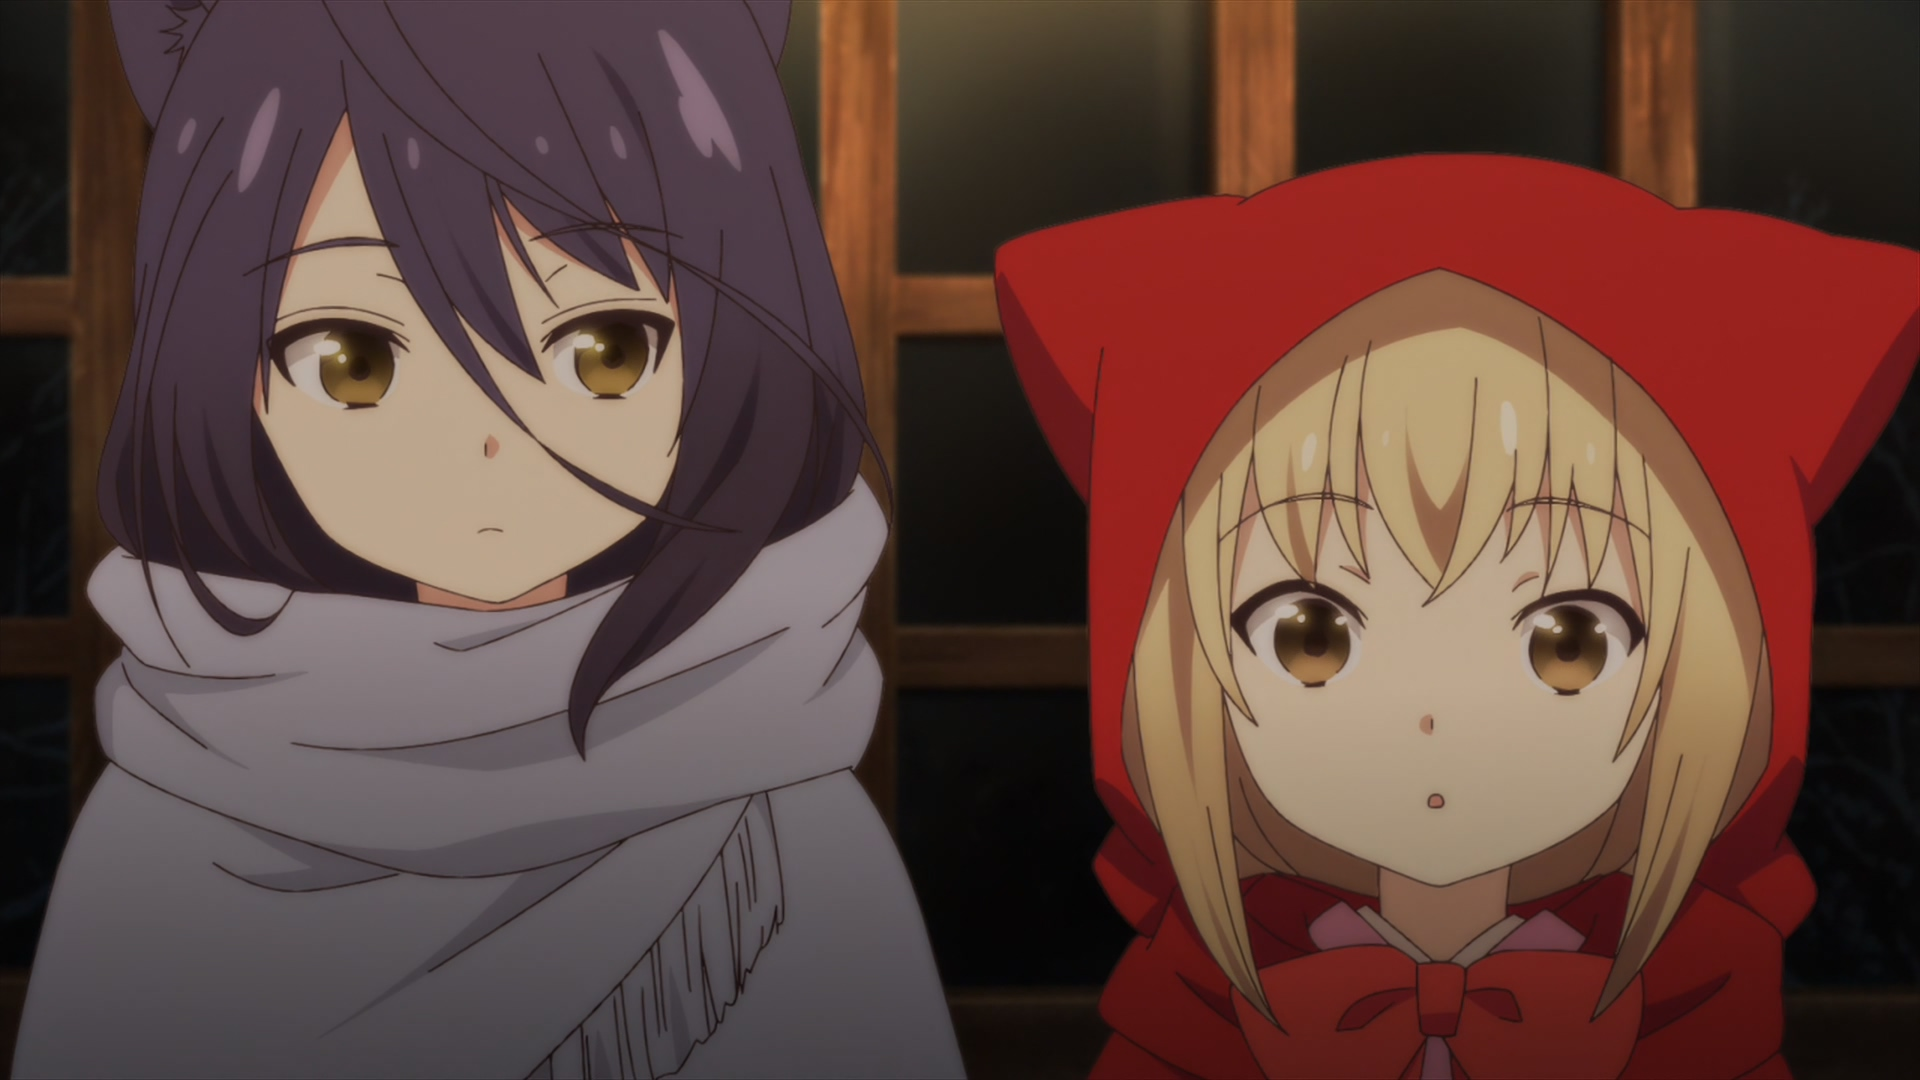柚: (993, 154, 1920, 1080)
皋: (12, 1, 968, 1080)
